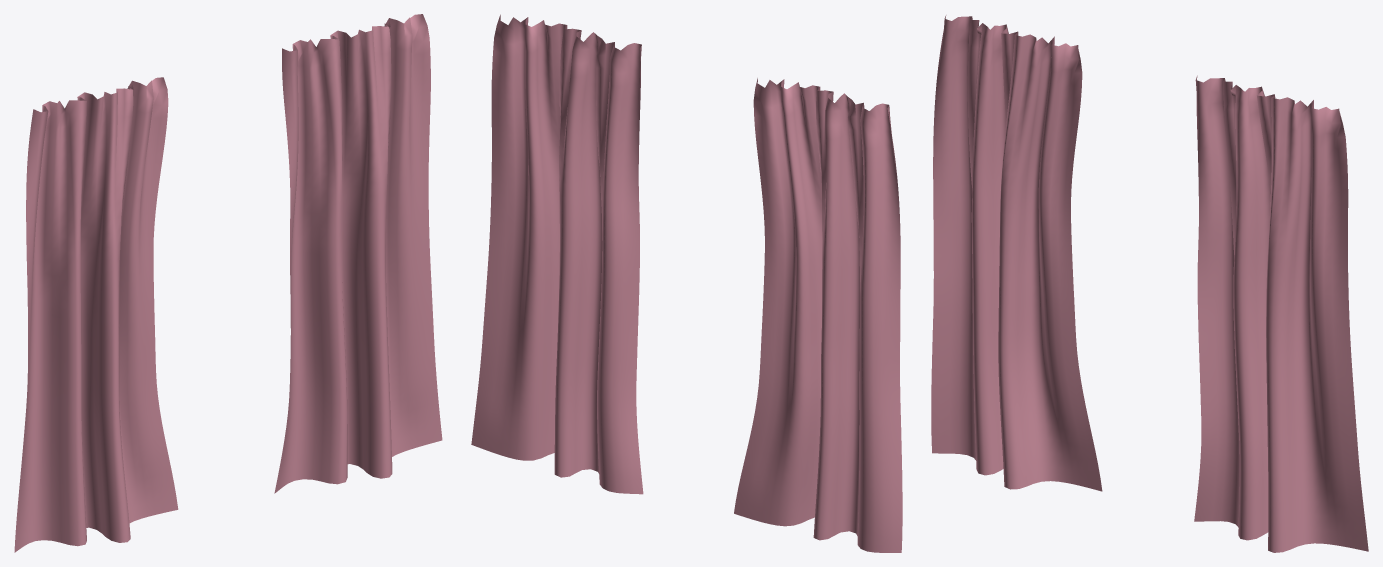
The model's file is curtains_long.fbx.
3 renders of one model, left to right at view 1: azimuth 30°, elevation 25°; view 2: azimuth 150°, elevation 25°; view 3: azimuth 330°, elevation 25°, orthographic.
Visible parts, largest first — view 1: CurtainRight, CurtainLeft; view 2: CurtainRight, CurtainLeft; view 3: CurtainRight, CurtainLeft.
Part boxes in pixels (x1,y1,x2,y2): CurtainRight: (274, 14, 442, 493); CurtainLeft: (14, 77, 178, 552); CurtainRight: (471, 14, 643, 494); CurtainLeft: (734, 78, 902, 552); CurtainRight: (1194, 75, 1368, 552); CurtainLeft: (931, 15, 1102, 491).
Bounding box in the file's own units: 2.25 × 2.23 × 0.2331.
